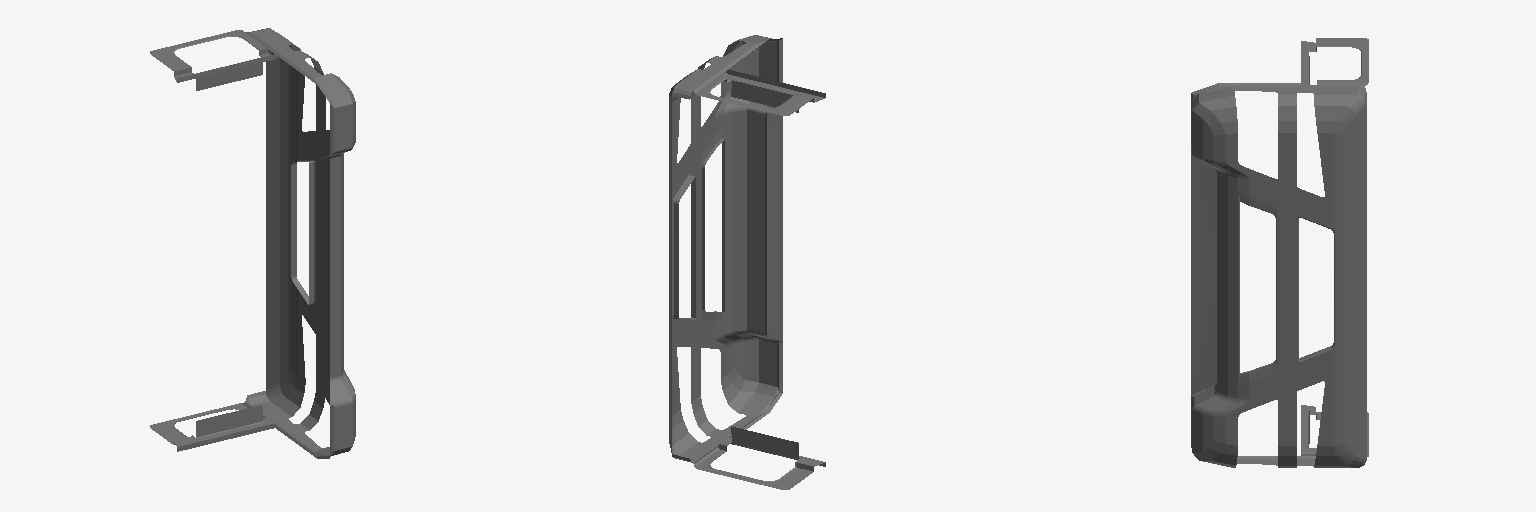
Rendered from bumper.obj.
The picture shows the model from 3 angles: view 1: azimuth 30°, elevation 25°; view 2: azimuth 150°, elevation 25°; view 3: azimuth 270°, elevation 25°; orthographic projection.
Visible parts, largest first — view 1: Cab; view 2: Cab; view 3: Cab.
Part boxes in pixels (x1,y1,x2,y2): Cab: (150,28,355,458); Cab: (669,35,825,489); Cab: (1191,38,1368,467).
Size of the model in its own units: 0.9347 by 2.44 by 1.06.